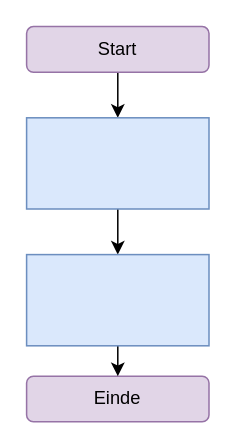
The diagram is 236 pixels wide and 448 high, and some of its shapes have lost their labels. The centre of each missing label's shape, as x and y in pixels:
"Haal kaarten uit de doos" belongs at pixel 117 162.
"Kaarten schudden" belongs at pixel 117 299.
